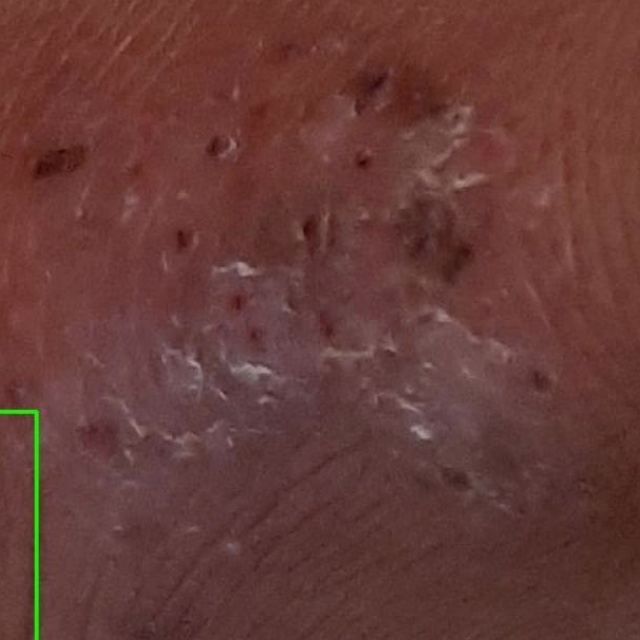Contact Dermatitis: (0, 411, 36, 639)
